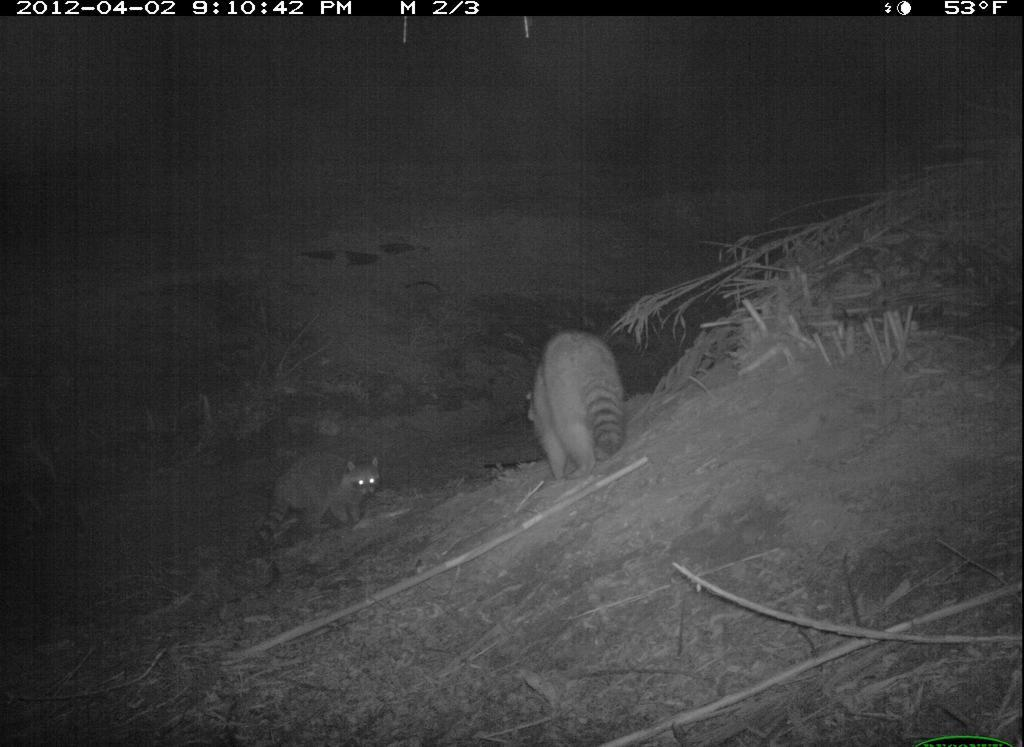raccoon: (507, 322, 638, 498), (251, 441, 396, 551)
